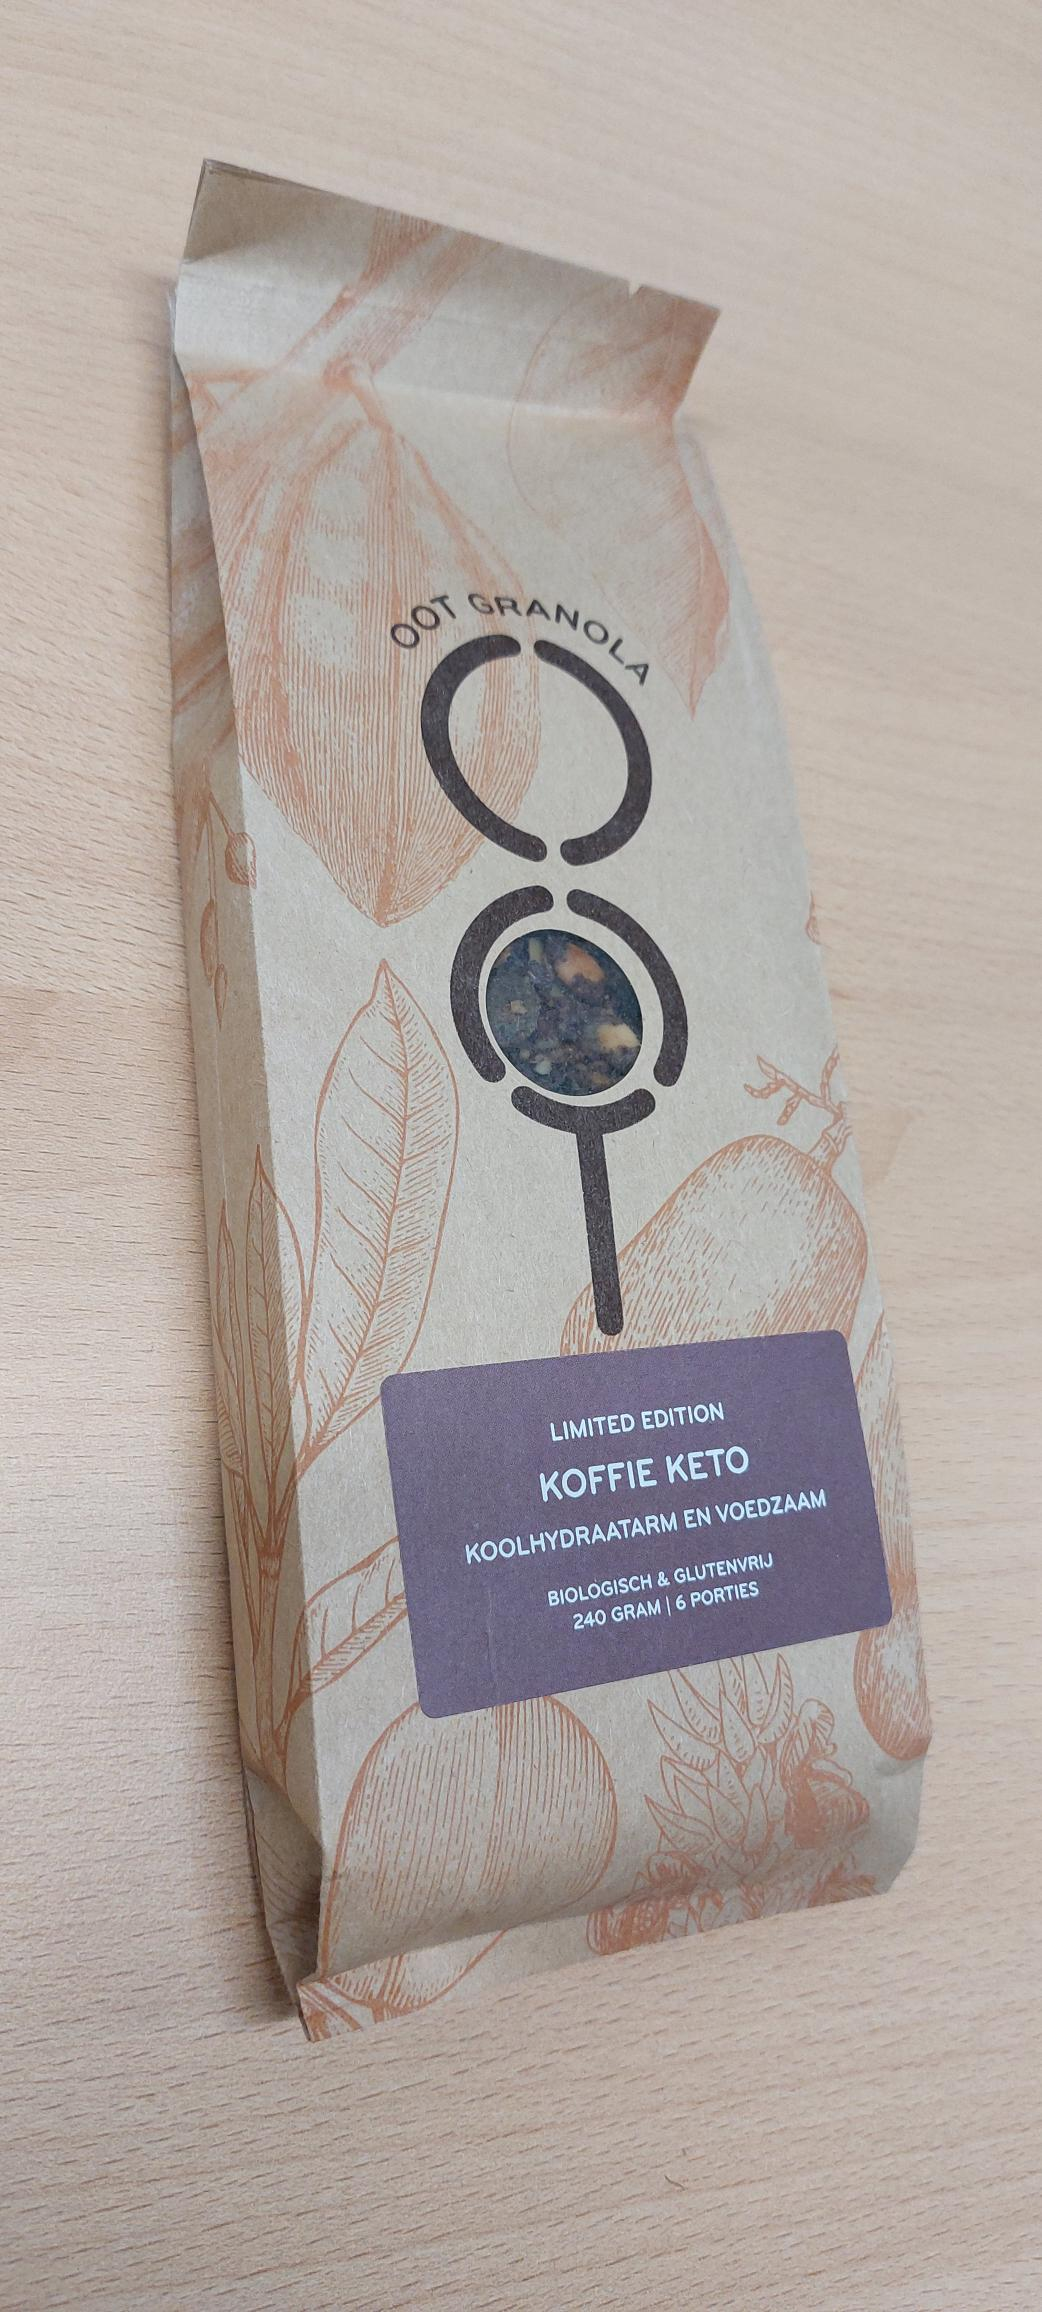KoffieKeto: (386, 1340, 892, 1682)
